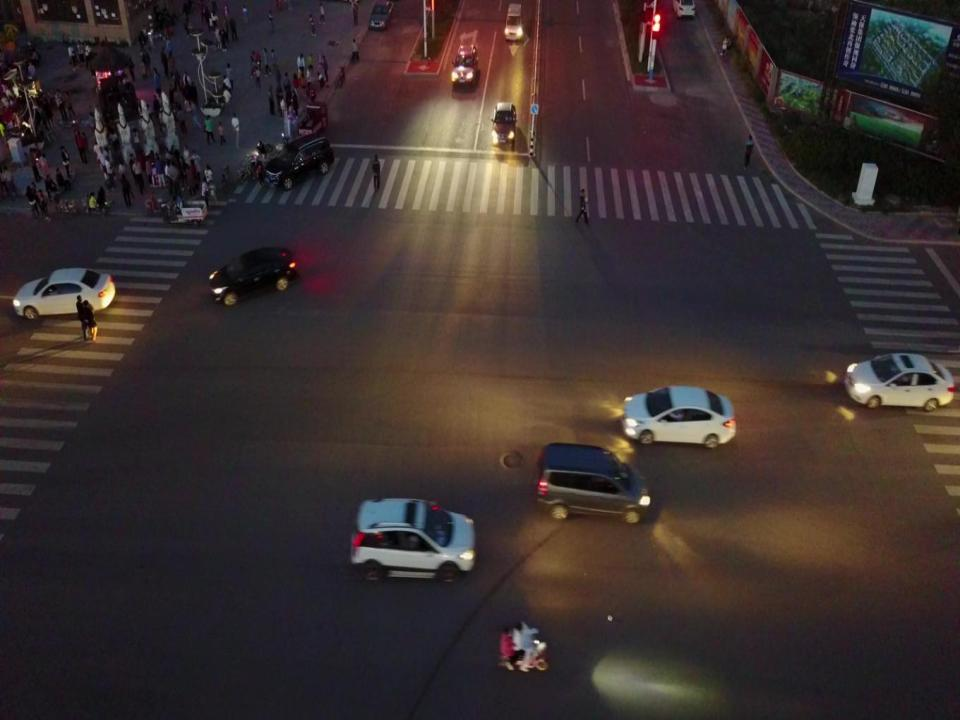car: (350, 496, 477, 584), (535, 444, 650, 524), (621, 385, 737, 449), (844, 353, 956, 411), (207, 245, 297, 307), (13, 268, 115, 320), (262, 133, 334, 191), (452, 42, 478, 88), (491, 102, 518, 145), (368, 0, 394, 30), (672, 0, 696, 18)
van: (504, 4, 524, 38)
